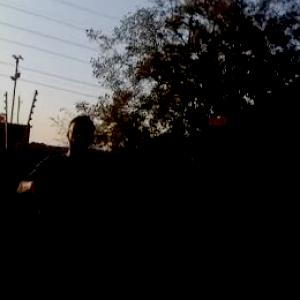follow: (6, 108, 108, 299)
